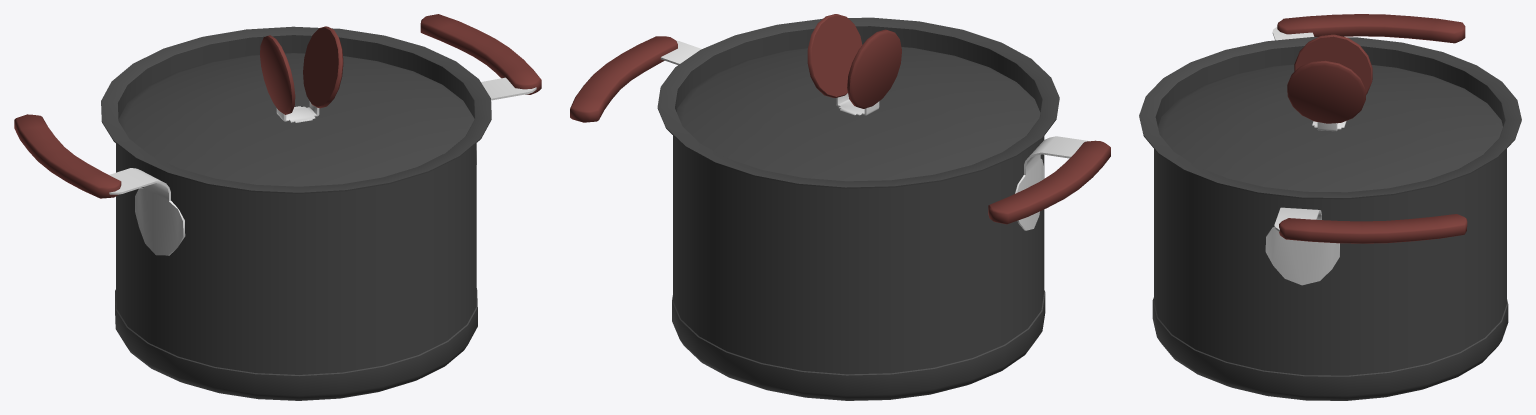
Rendered from MiddlePot002.FBX.
3 renders of one model, left to right at view 1: azimuth 30°, elevation 25°; view 2: azimuth 150°, elevation 25°; view 3: azimuth 270°, elevation 25°, orthographic. The views are drawn at different scales.
Visible parts, largest first — view 1: MiddlePot002; view 2: MiddlePot002; view 3: MiddlePot002.
Part boxes in pixels (box(x1,y1,x2,y2)): MiddlePot002: box(14, 14, 541, 400); MiddlePot002: box(570, 14, 1110, 400); MiddlePot002: box(1139, 14, 1521, 400).
Bounding box in the file's own units: 1008 × 612 × 742.
